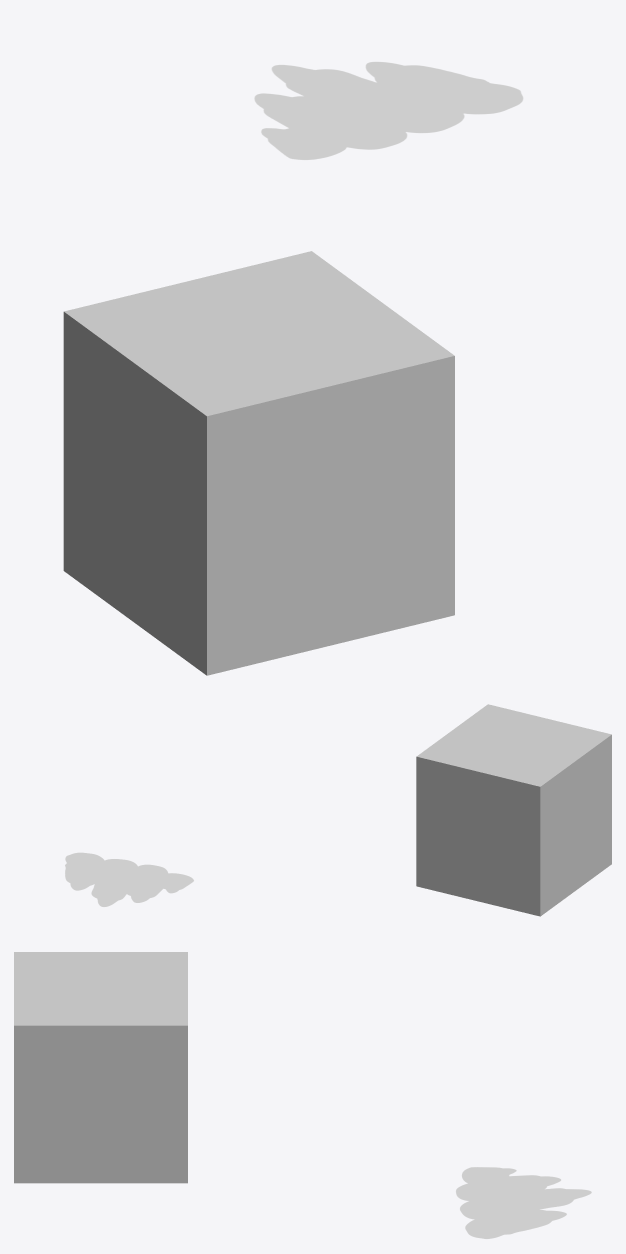
Rendered from hand_spin.glb.
3 views of the same model, one above another, from view 1: azimuth 30°, elevation 25°; view 2: azimuth 150°, elevation 25°; view 3: azimuth 270°, elevation 25° (orthographic). The views are drawn at different scales.
Visible parts, largest first — view 1: Cube, Plane; view 2: Cube, Plane; view 3: Cube, Plane.
Boxes of the visible parts, x1=… form: Cube: x1=63, y1=251, x2=454, y2=675; Plane: x1=254, y1=61, x2=523, y2=159; Cube: x1=416, y1=704, x2=611, y2=916; Plane: x1=65, y1=852, x2=193, y2=906; Cube: x1=14, y1=952, x2=187, y2=1183; Plane: x1=456, y1=1167, x2=591, y2=1238.
Size of the model in its own units: 5.68 by 2 by 6.87.
2 materials, 1 textured.
